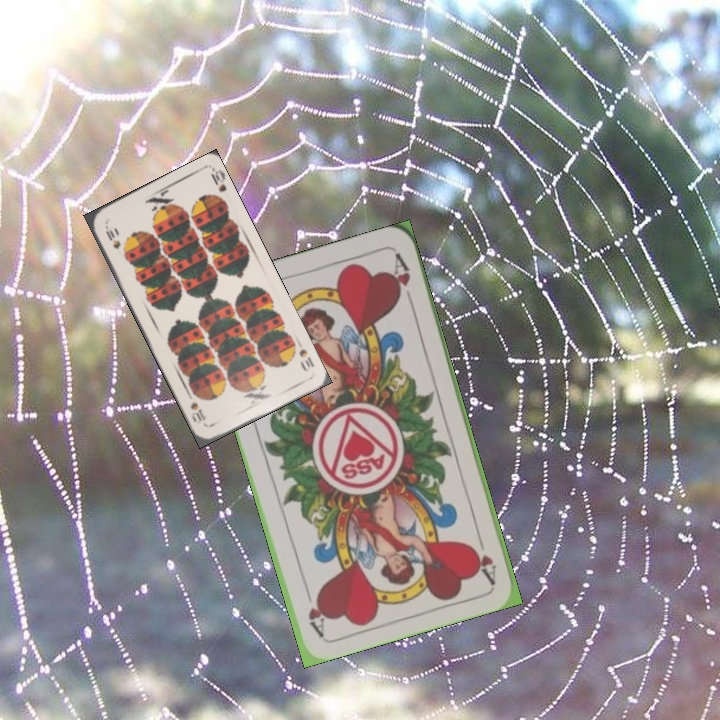HA: (469, 528, 499, 586)
S10: (292, 336, 317, 374), (101, 221, 123, 252)
